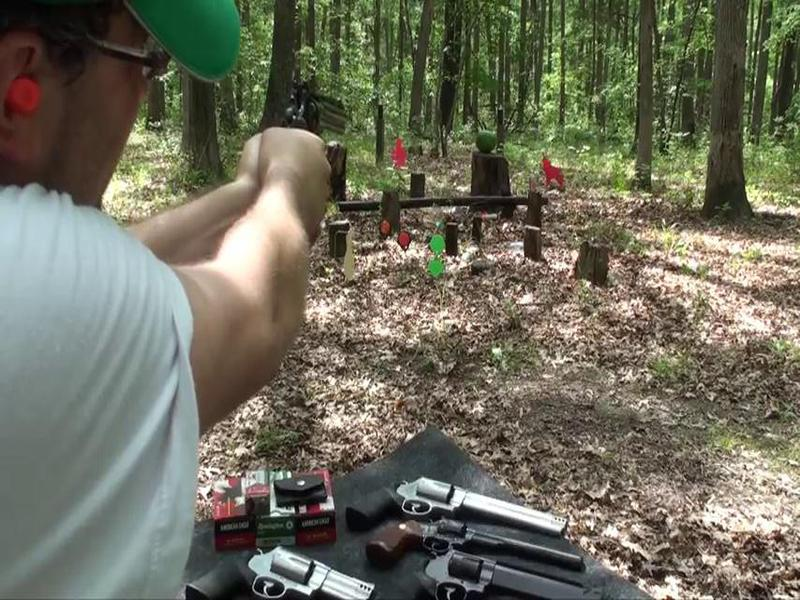Revolver: (260, 77, 364, 172)
